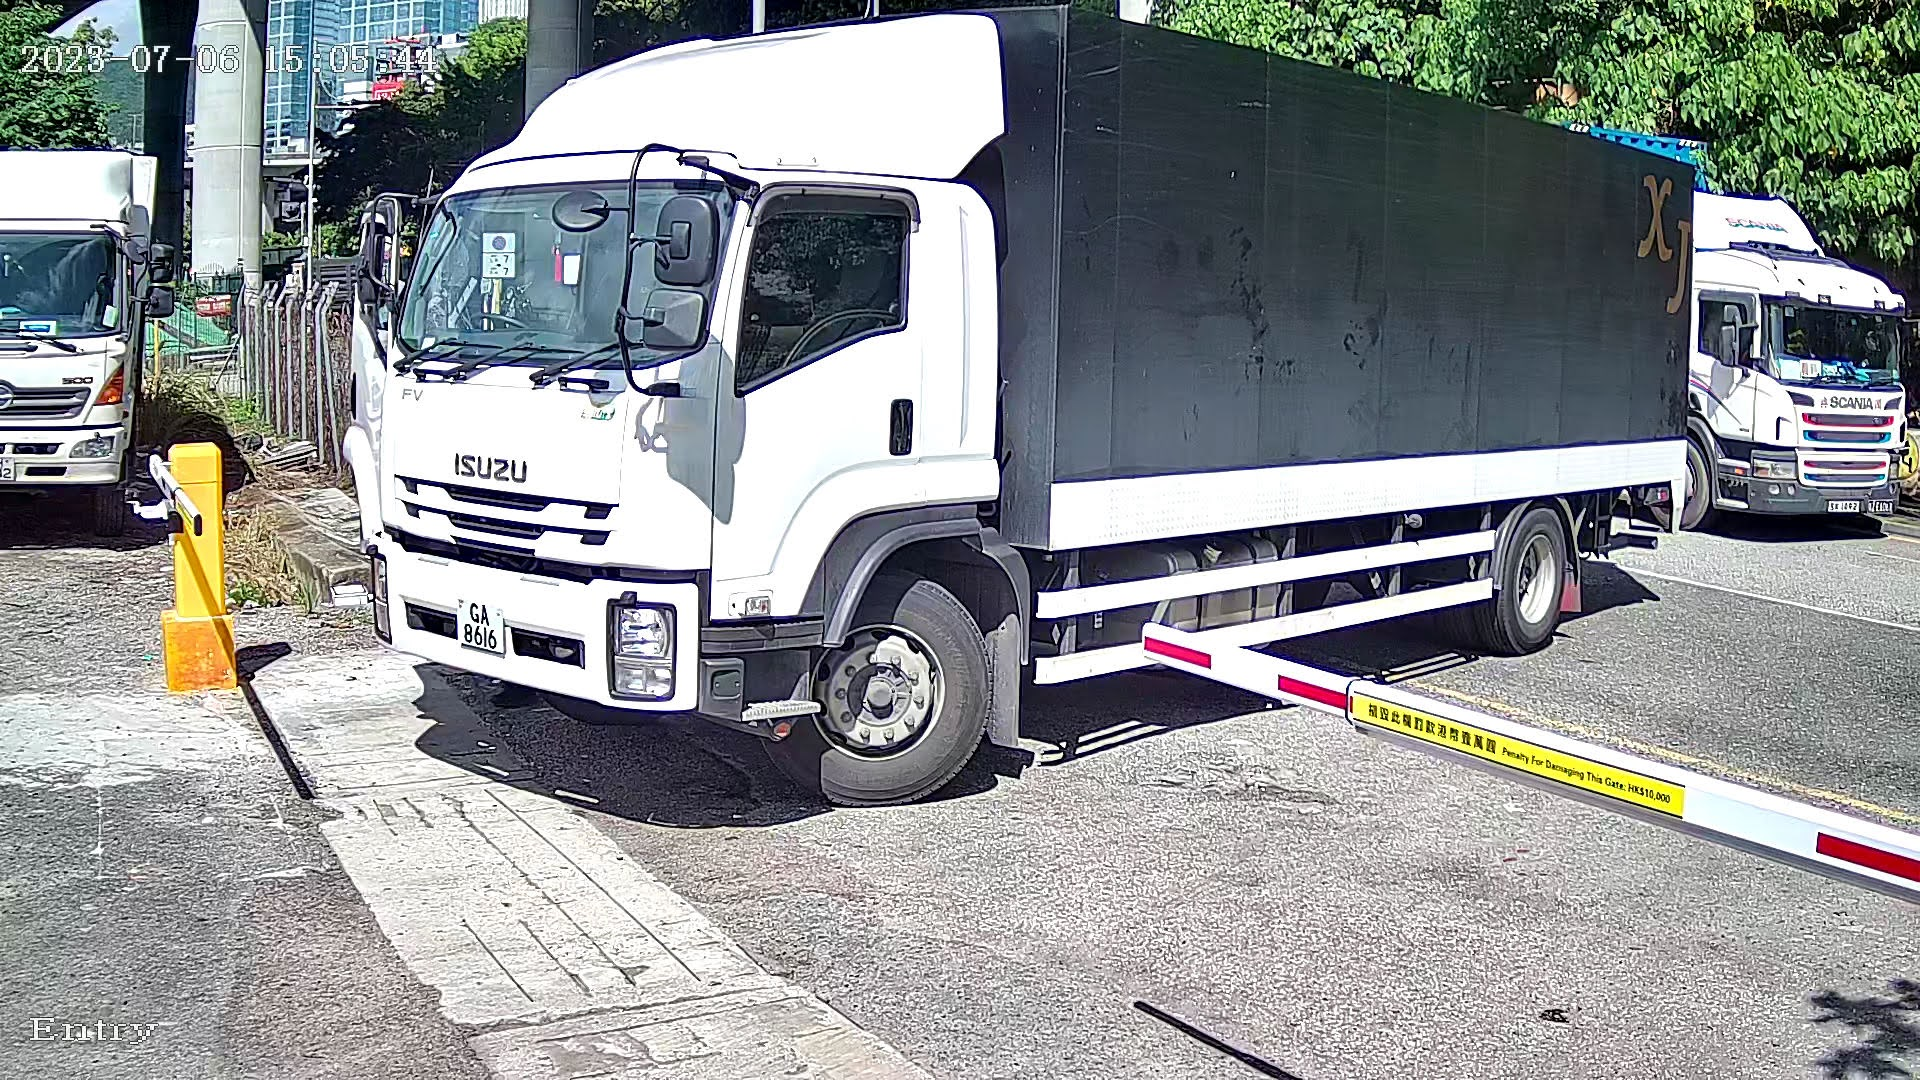truck: (295, 1, 1766, 831)
